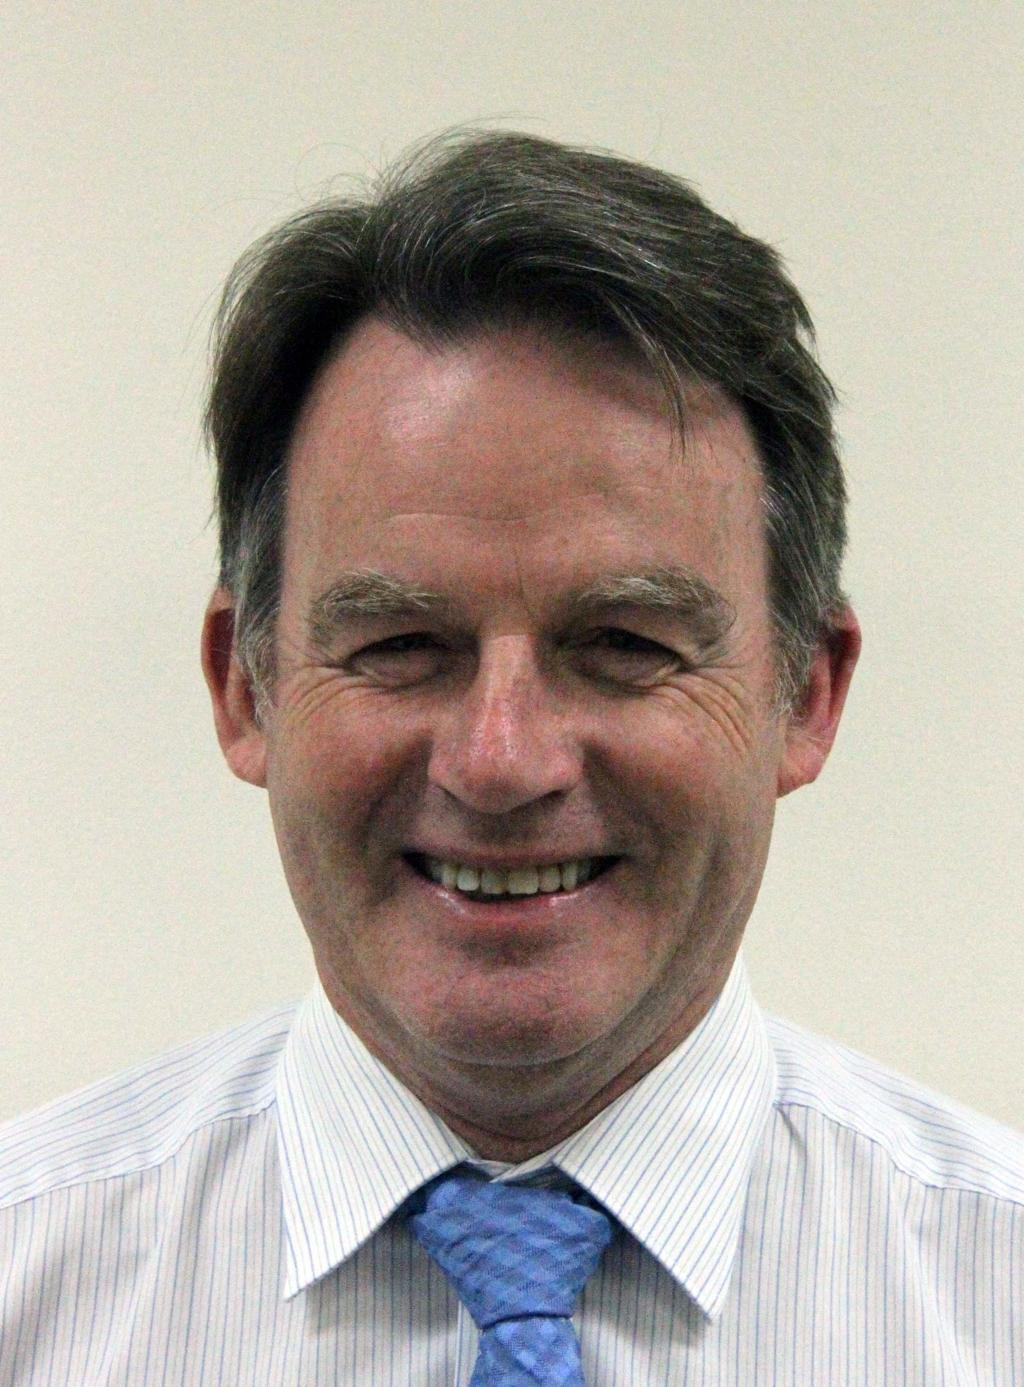face: (290, 333, 786, 1067)
